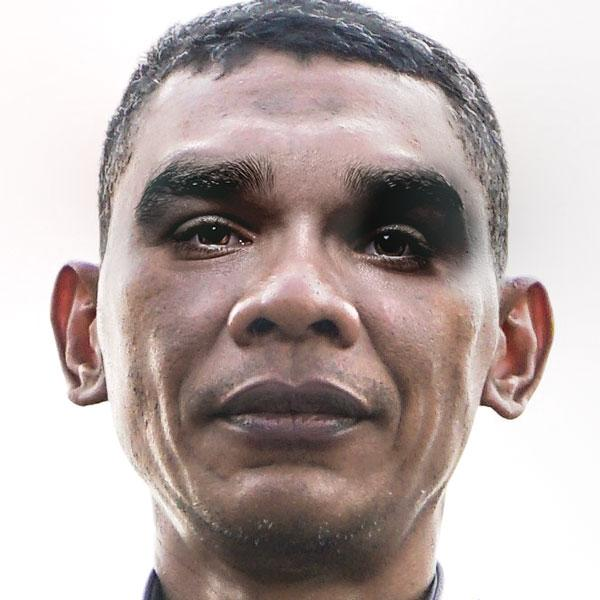Eyes: (342, 203, 439, 284), (156, 199, 260, 266)
